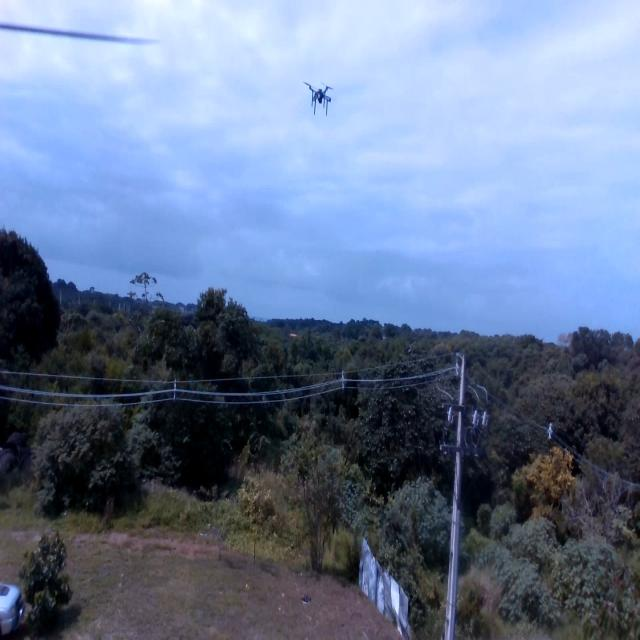-uav-: (301, 72, 337, 126)
